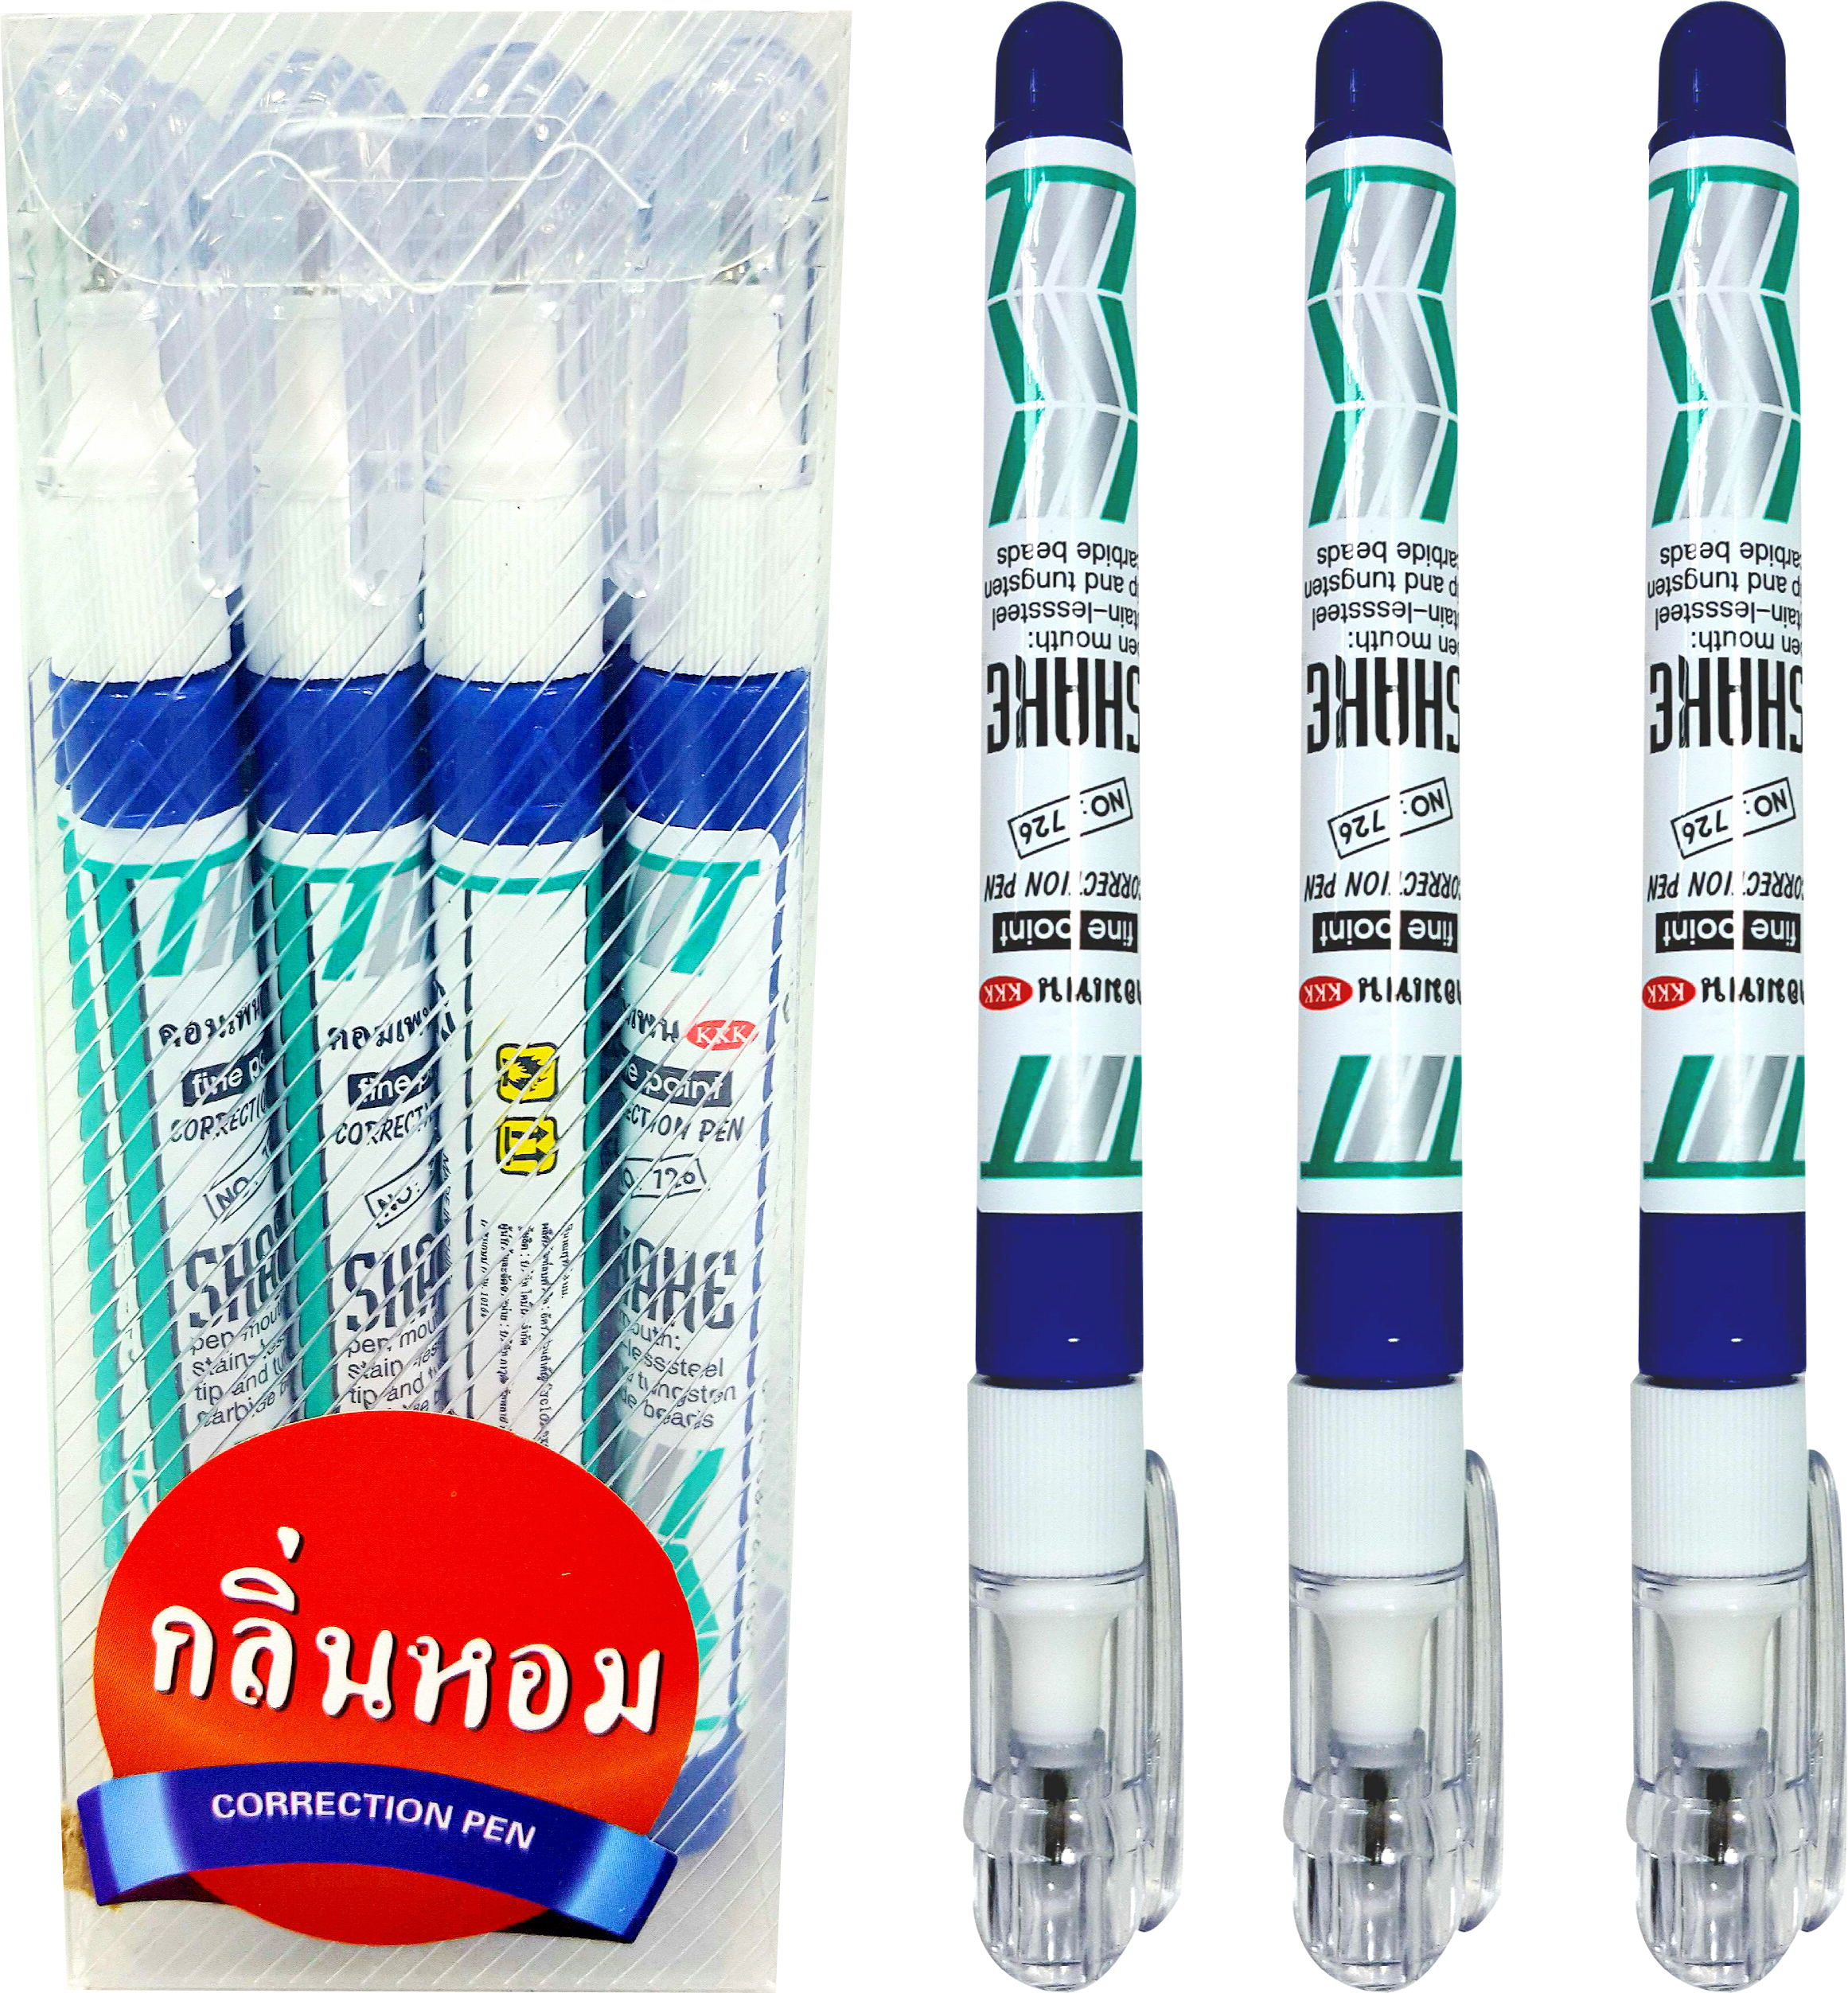Correction_fluid: (1608, 0, 1848, 1993), (959, 0, 1198, 1993), (1273, 7, 1511, 1993), (597, 56, 851, 1890), (2, 36, 299, 1475), (198, 26, 452, 1428), (391, 26, 601, 1484)
